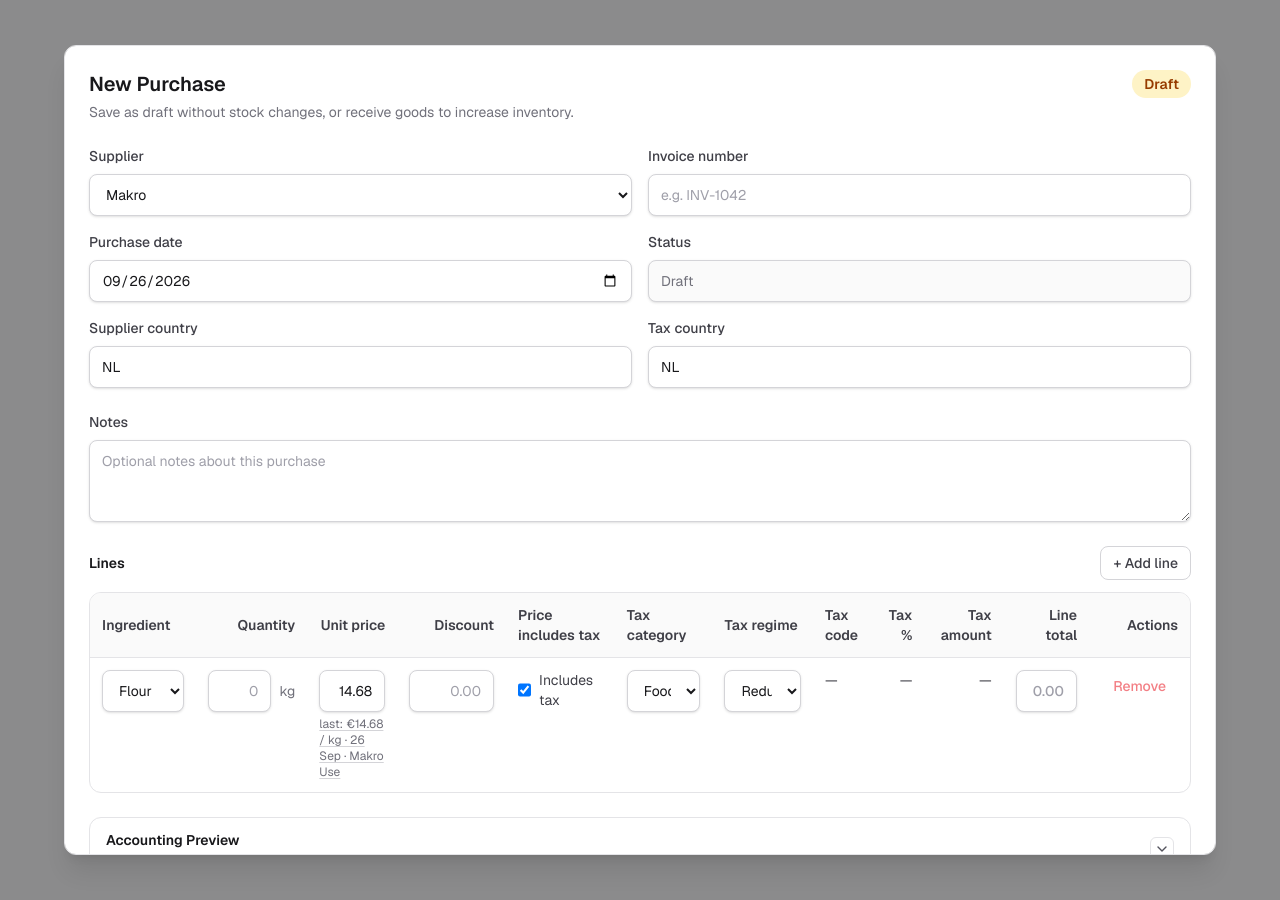
PurchaseDocumentModal last price › fills a price the user typed and then cleared
Replace the text in the field named "Unit price" with "3". click: (352, 691)
box: [319,670,385,712]
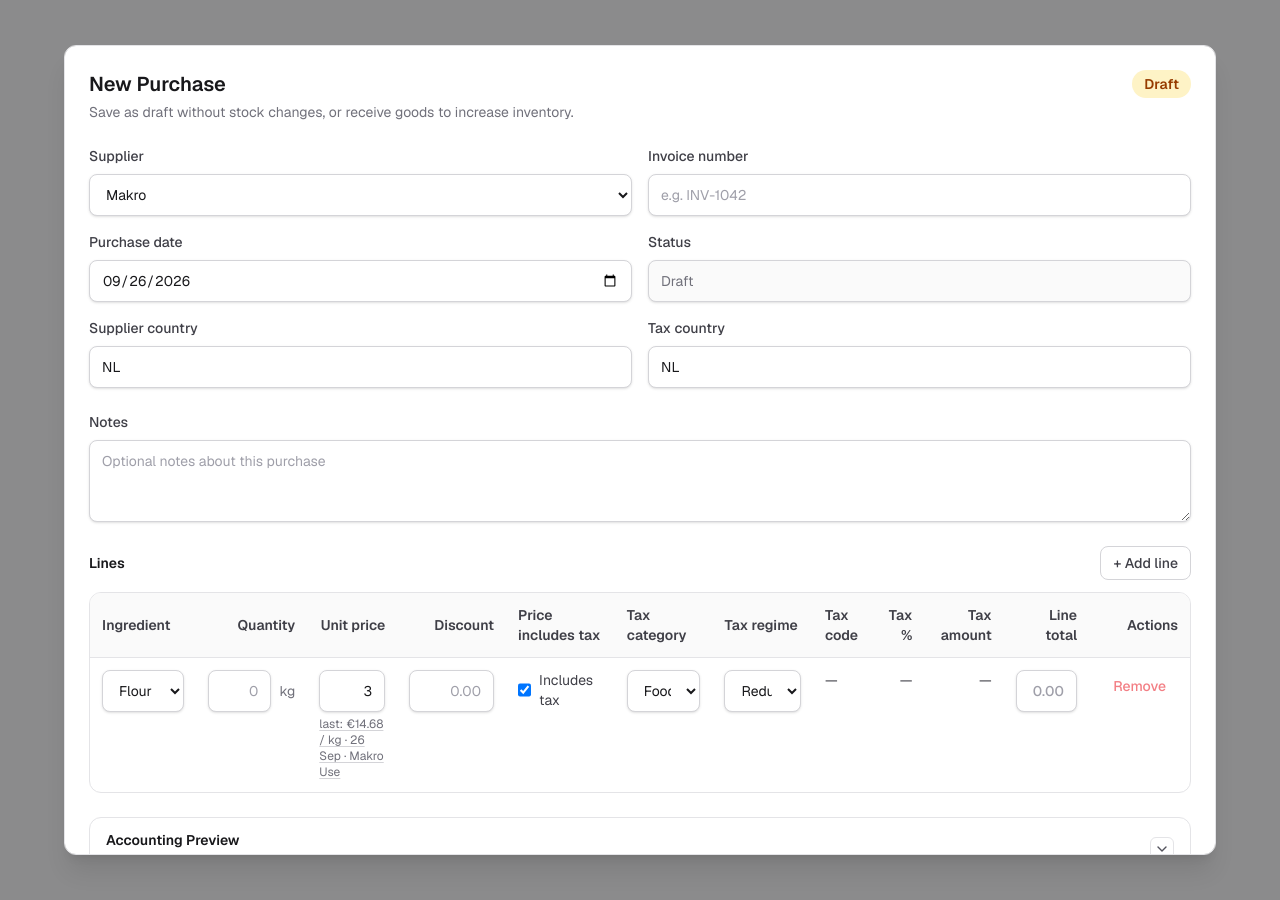
Clear the field named "Unit price". click: (352, 691)
box: [319,670,385,712]
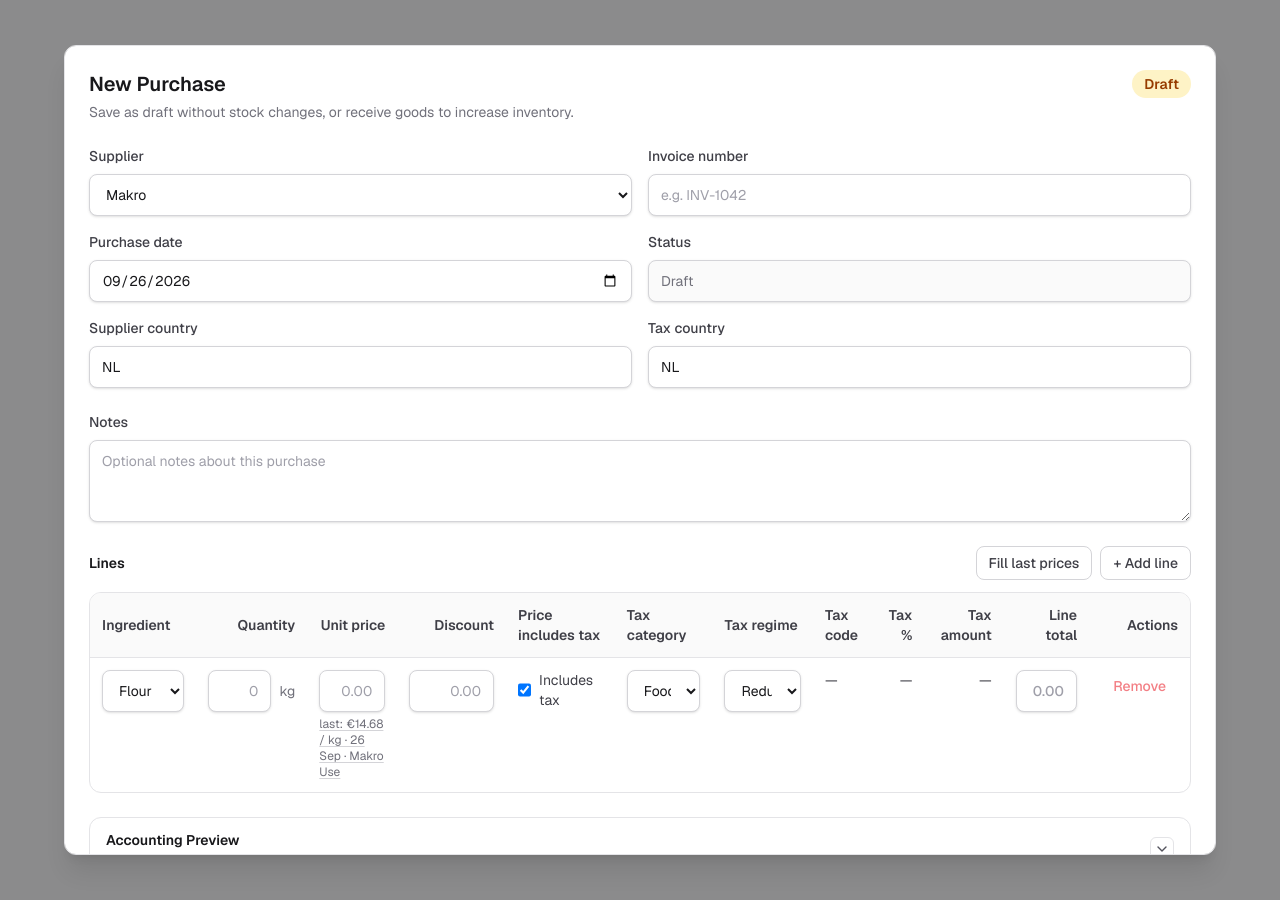
Click the button "Fill last prices". click: (1034, 563)
box: [976,546,1092,580]
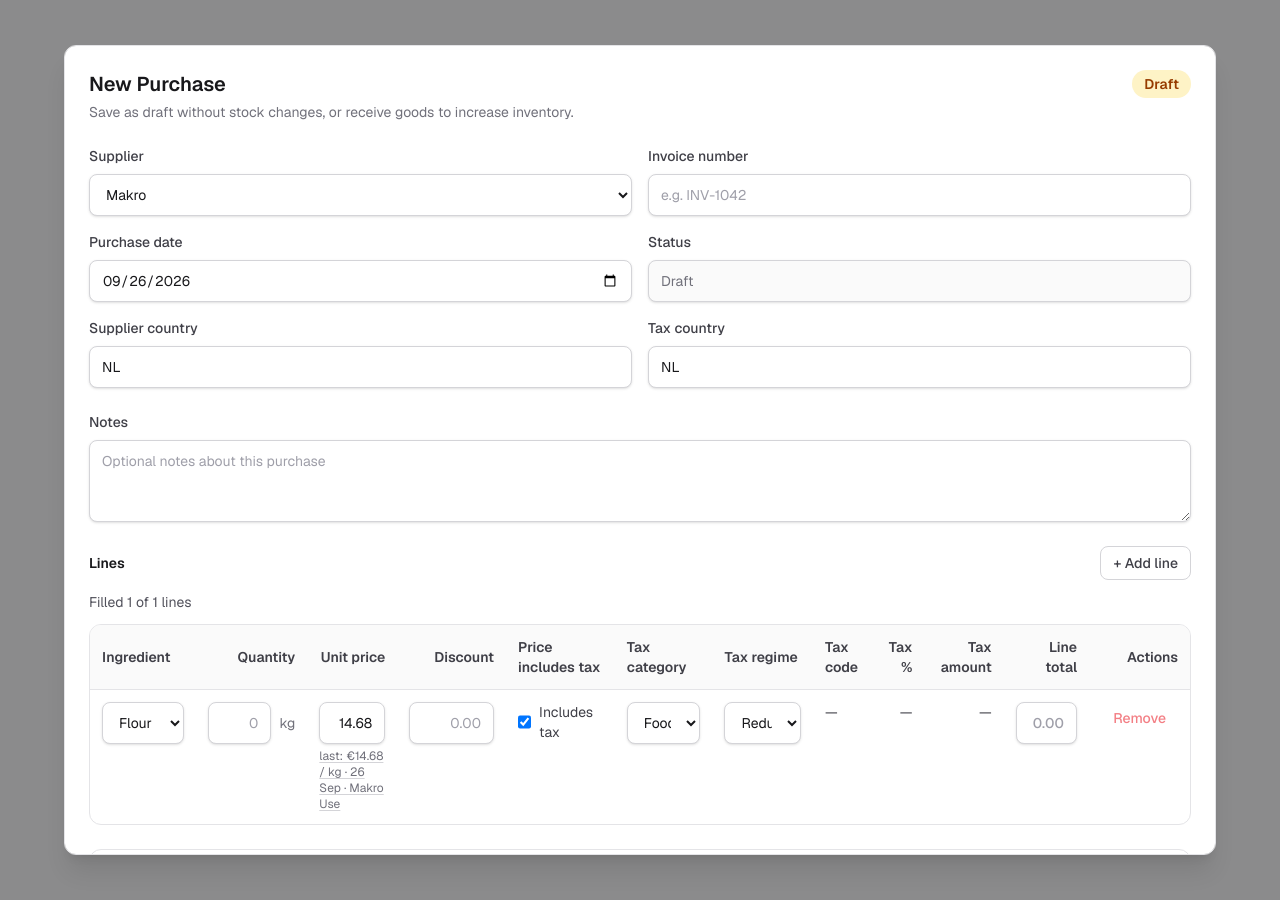
Check: the field named "Unit price" holds "14.68", box [319,702,385,744]
Check: the text "Filled 1 of 1 lines" is shown, box [89,593,192,611]
